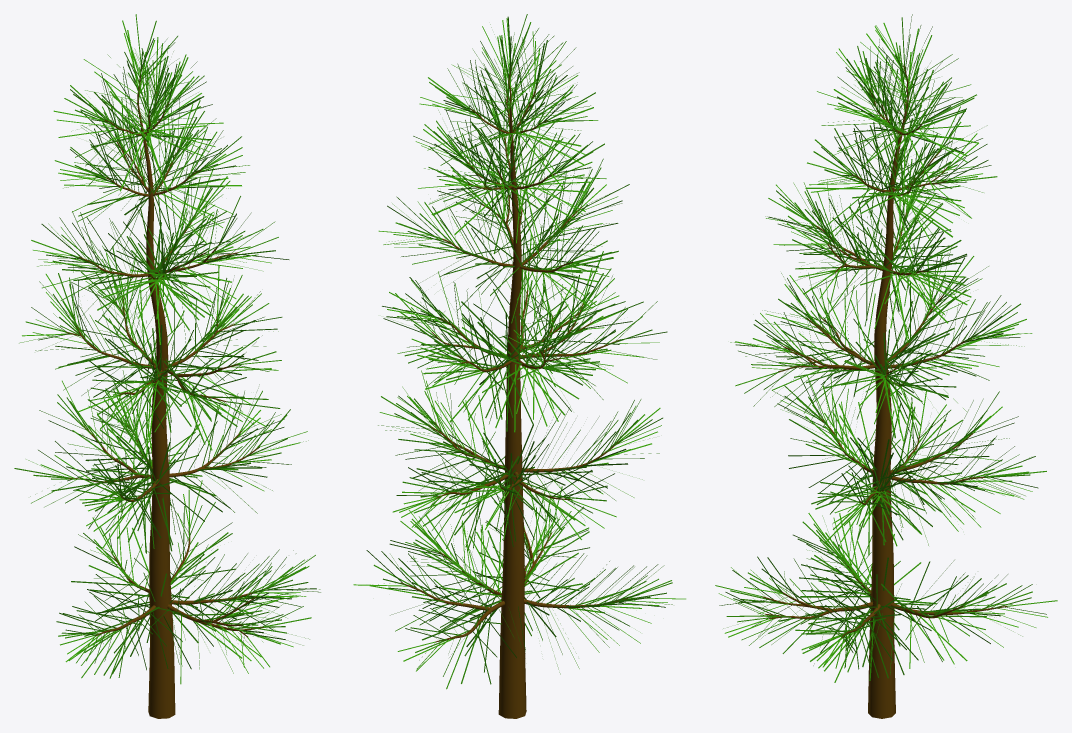
Rendered from Bush.fbx.
3 renders of one model, left to right at view 1: azimuth 30°, elevation 25°; view 2: azimuth 150°, elevation 25°; view 3: azimuth 270°, elevation 25°, orthographic. The views are drawn at different scales.
Parts seen in each view (by area): view 1: leaves, tree; view 2: leaves, tree; view 3: leaves, tree.
Part boxes in pixels (box(x1,y1,x2,y2)): leaves: box(14, 14, 320, 684); tree: box(66, 67, 263, 718); leaves: box(353, 14, 685, 689); tree: box(400, 66, 628, 718); leaves: box(715, 14, 1057, 682); tree: box(762, 65, 1007, 718).
Bounding box in the file's own units: 85.72 × 216 × 96.88.
